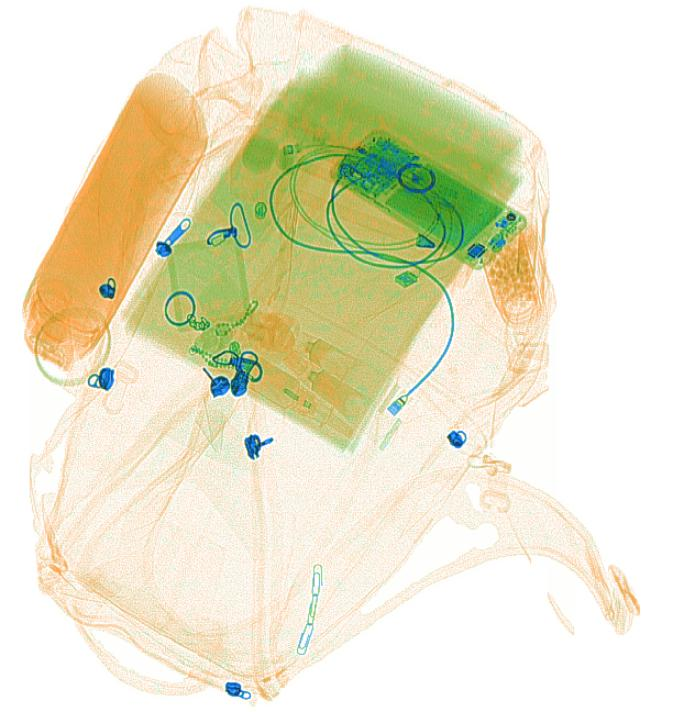plasticBottleWithaNozzle: (236, 355, 332, 425)
